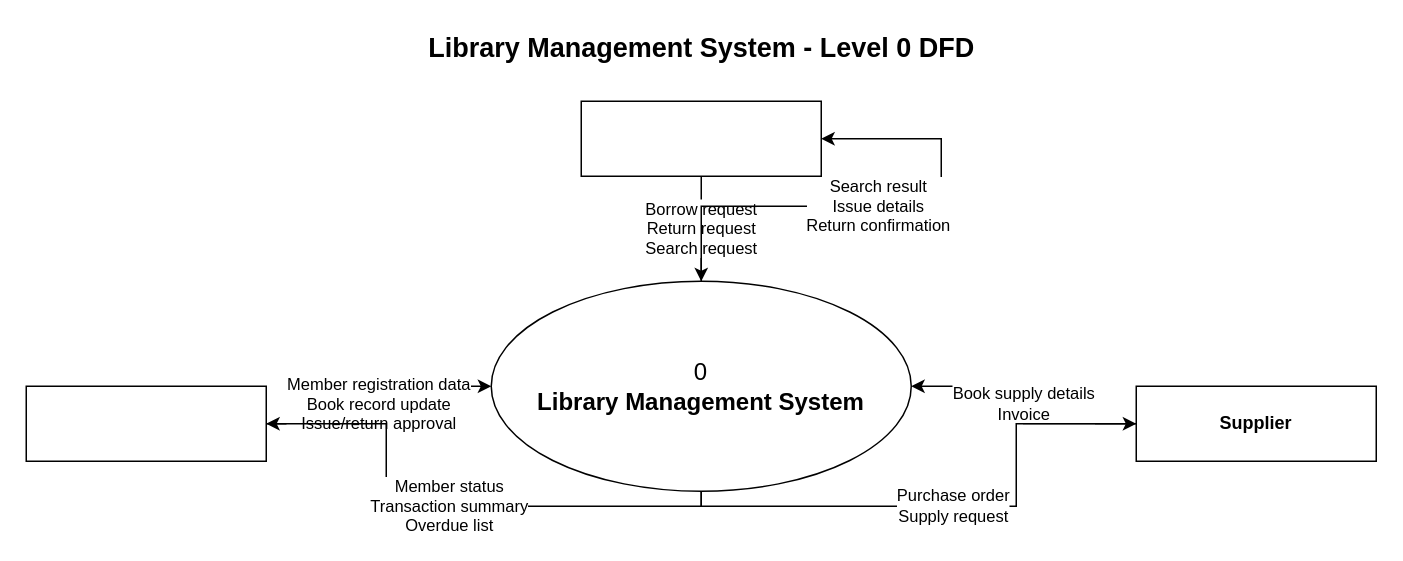
Some shapes in this 1403 by 561 pixel diagram are drawn without their labels. Each missing label, with the centre of its shape:
"Librarian" goes at [145,423].
"Member" goes at [700,138].
